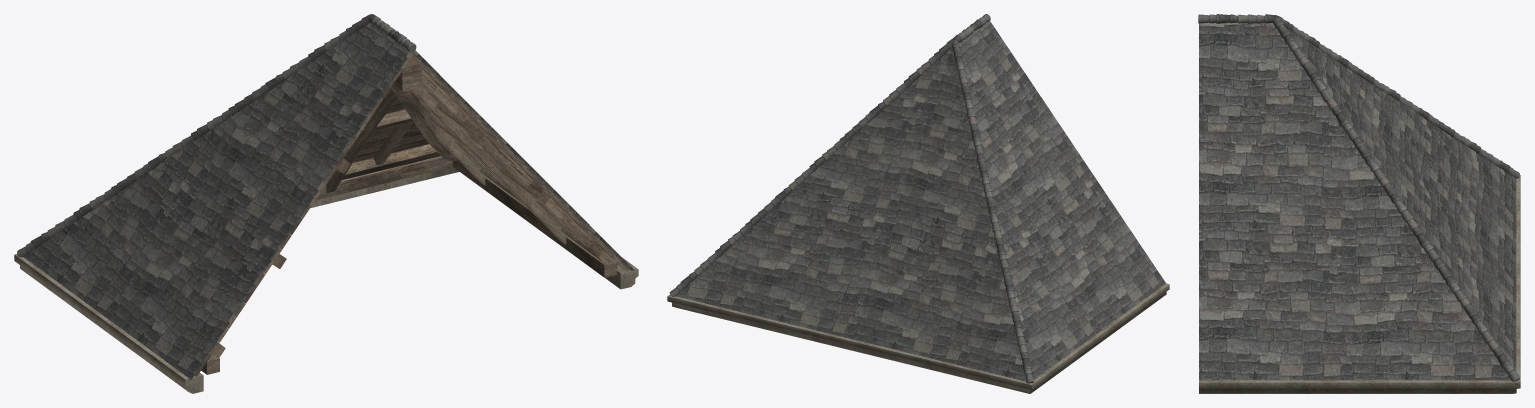
Rendered from SM_pal_b00grass_Lodenfel_Roof_12m_03_5d1520.glb.
3 views of the same model, side by side, from view 1: azimuth 30°, elevation 25°; view 2: azimuth 150°, elevation 25°; view 3: azimuth 270°, elevation 25° (orthographic). The views are drawn at different scales.
Size of the model in its own units: 12.94 by 8.11 by 8.49.
Materials: 3 (3 with a texture image).
